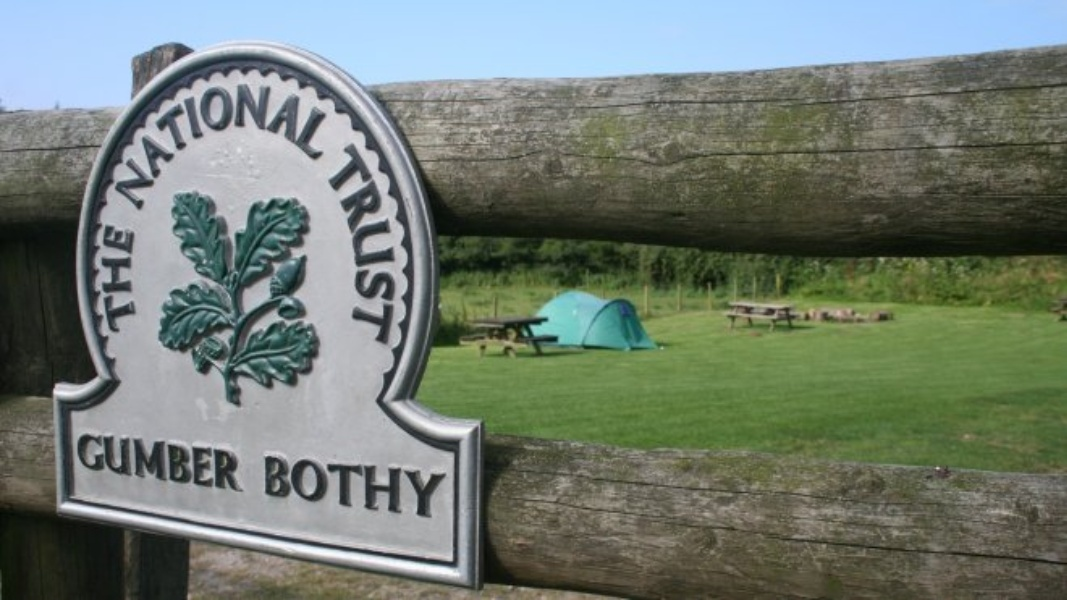text: (369, 133, 384, 358), (385, 133, 400, 358), (401, 133, 416, 358), (97, 54, 112, 248), (113, 54, 128, 248), (129, 54, 144, 248), (145, 54, 160, 248), (161, 54, 176, 248), (177, 54, 192, 248), (193, 54, 208, 248), (209, 54, 224, 248), (225, 54, 240, 248), (241, 54, 256, 248), (257, 54, 272, 248), (273, 54, 288, 248), (289, 54, 304, 248), (305, 54, 320, 248), (321, 54, 336, 248), (337, 54, 352, 248), (353, 54, 367, 248), (356, 133, 368, 358), (113, 227, 128, 334), (99, 227, 112, 334), (129, 227, 141, 334), (417, 133, 422, 358), (273, 455, 288, 521), (289, 455, 304, 521), (305, 455, 320, 521), (321, 455, 336, 521), (337, 455, 352, 521), (353, 455, 368, 521), (369, 455, 384, 521), (385, 455, 400, 521), (401, 455, 416, 521), (417, 455, 432, 521), (433, 455, 448, 521), (81, 431, 96, 494), (97, 431, 112, 494), (113, 431, 128, 494), (129, 431, 144, 494), (145, 431, 160, 494), (161, 431, 176, 494), (177, 431, 192, 494), (193, 431, 208, 494), (209, 431, 224, 494), (225, 431, 240, 494), (262, 455, 272, 521), (241, 431, 248, 494), (94, 54, 96, 248), (76, 431, 80, 494)
